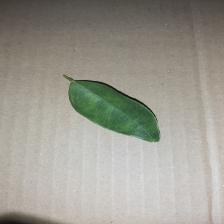greening: (60, 72, 165, 144)
